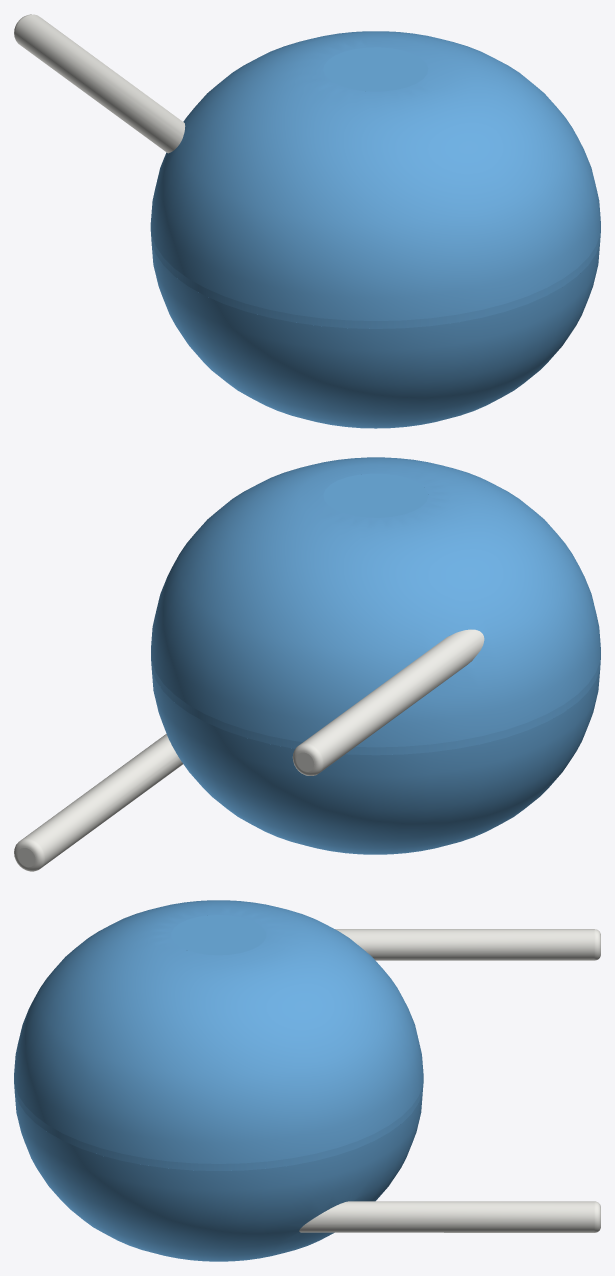
File: RV_Disc_D7mm_W5.5mm_P5mm.glb
3 renders of one model, top to bottom at view 1: azimuth 30°, elevation 25°; view 2: azimuth 150°, elevation 25°; view 3: azimuth 270°, elevation 25°, orthographic. The views are drawn at different scales.
Visible parts, largest first — view 1: Shape_IndexedFaceSet.001, Shape_IndexedFaceSet.002, Shape_IndexedFaceSet.004, Shape_IndexedFaceSet, Shape_IndexedFaceSet.003; view 2: Shape_IndexedFaceSet.001, Shape_IndexedFaceSet.002, Shape_IndexedFaceSet.004, Shape_IndexedFaceSet.006, Shape_IndexedFaceSet.003, Shape_IndexedFaceSet, Shape_IndexedFaceSet.007, Shape_IndexedFaceSet.008; view 3: Shape_IndexedFaceSet.001, Shape_IndexedFaceSet.002, Shape_IndexedFaceSet.006, Shape_IndexedFaceSet.004, Shape_IndexedFaceSet, Shape_IndexedFaceSet.003.
Boxes of the visible parts, bbox=[...] form: Shape_IndexedFaceSet.001: bbox=[150, 31, 600, 320]; Shape_IndexedFaceSet.002: bbox=[151, 243, 599, 428]; Shape_IndexedFaceSet.004: bbox=[15, 14, 185, 153]; Shape_IndexedFaceSet: bbox=[150, 224, 600, 328]; Shape_IndexedFaceSet.003: bbox=[323, 47, 428, 91]; Shape_IndexedFaceSet.001: bbox=[151, 457, 600, 747]; Shape_IndexedFaceSet.002: bbox=[151, 669, 600, 854]; Shape_IndexedFaceSet.004: bbox=[300, 629, 484, 772]; Shape_IndexedFaceSet.006: bbox=[21, 734, 182, 867]; Shape_IndexedFaceSet.003: bbox=[323, 473, 428, 517]; Shape_IndexedFaceSet: bbox=[151, 652, 600, 755]; Shape_IndexedFaceSet.007: bbox=[292, 743, 323, 775]; Shape_IndexedFaceSet.008: bbox=[14, 839, 44, 871]; Shape_IndexedFaceSet.001: bbox=[14, 900, 423, 1163]; Shape_IndexedFaceSet.002: bbox=[14, 1091, 422, 1261]; Shape_IndexedFaceSet.006: bbox=[299, 1201, 594, 1232]; Shape_IndexedFaceSet.004: bbox=[335, 929, 594, 960]; Shape_IndexedFaceSet: bbox=[14, 1076, 423, 1170]; Shape_IndexedFaceSet.003: bbox=[171, 915, 266, 955].
Size of the model in its own units: 2.75 by 2.17 by 3.95.
